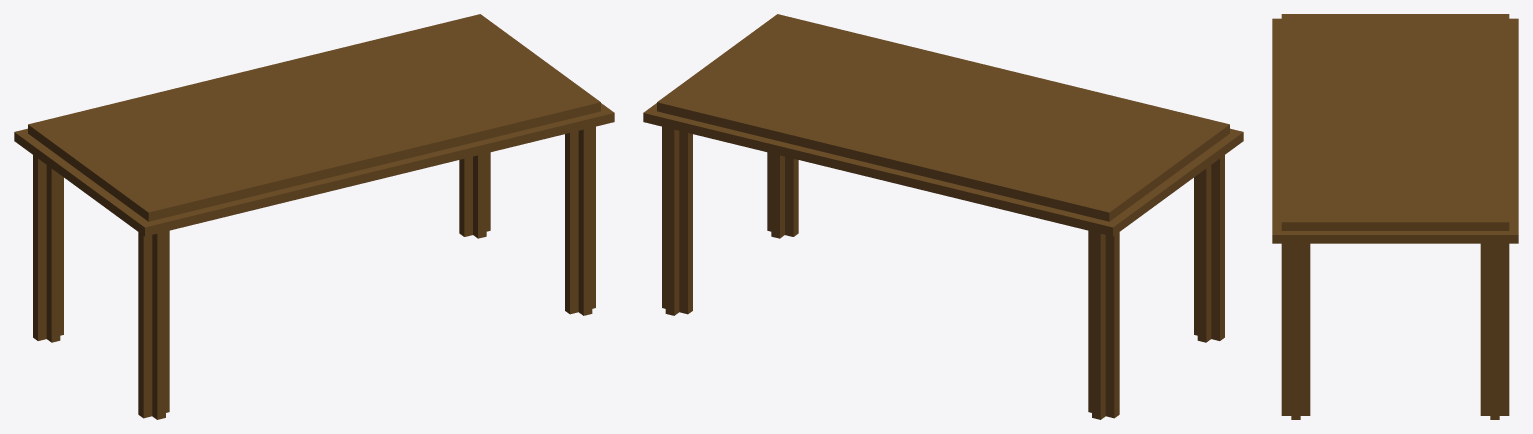
The model's file is Table.obj.
3 renders of one model, left to right at view 1: azimuth 30°, elevation 25°; view 2: azimuth 150°, elevation 25°; view 3: azimuth 270°, elevation 25°, orthographic. The views are drawn at different scales.
Parts seen in each view (by area): view 1: Table; view 2: Table; view 3: Table.
Boxes of the visible parts, x1,y1,x2,y2 form: Table: (14,14,614,419); Table: (643,14,1243,419); Table: (1272,14,1518,419).
Size of the model in its own units: 54 by 23 by 26.
Materials: 1 (1 with a texture image).
